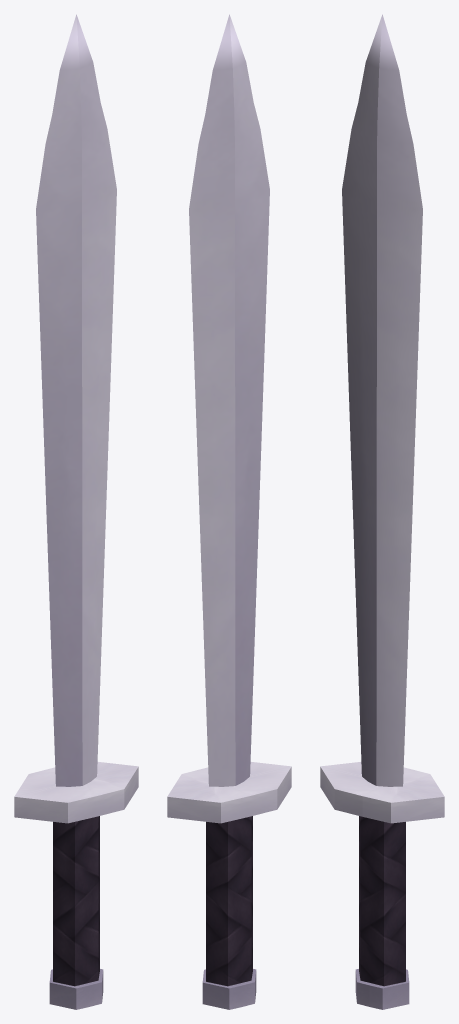
Rendered from Sword.FBX.
The picture shows the model from 3 angles, left to right: view 1: azimuth 30°, elevation 25°; view 2: azimuth 210°, elevation 25°; view 3: azimuth 330°, elevation 25°; orthographic projection.
Parts seen in each view (by area): view 1: Plane010; view 2: Plane010; view 3: Plane010.
Part boxes in pixels (x1,y1,x2,y2): Plane010: (14, 14, 138, 1009); Plane010: (167, 14, 291, 1009); Plane010: (320, 14, 444, 1009).
Size of the model in its own units: 0.344 by 2.6 by 0.1909.
1 material, 1 textured.
